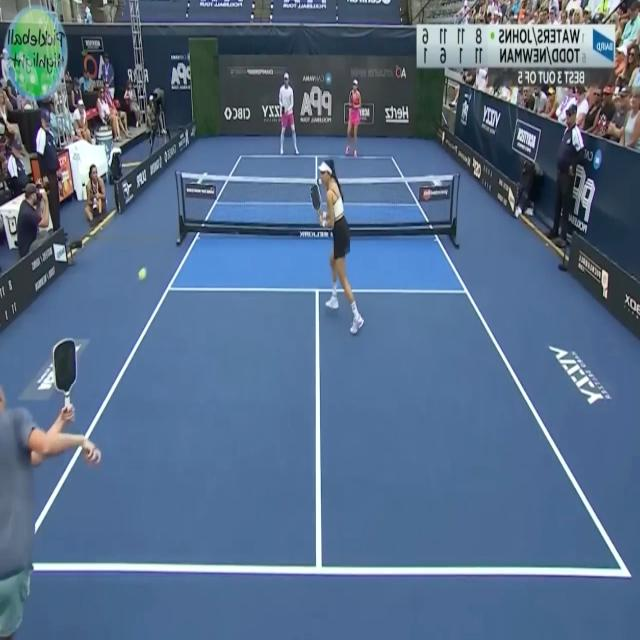Pickleball: (138, 264, 148, 283)
